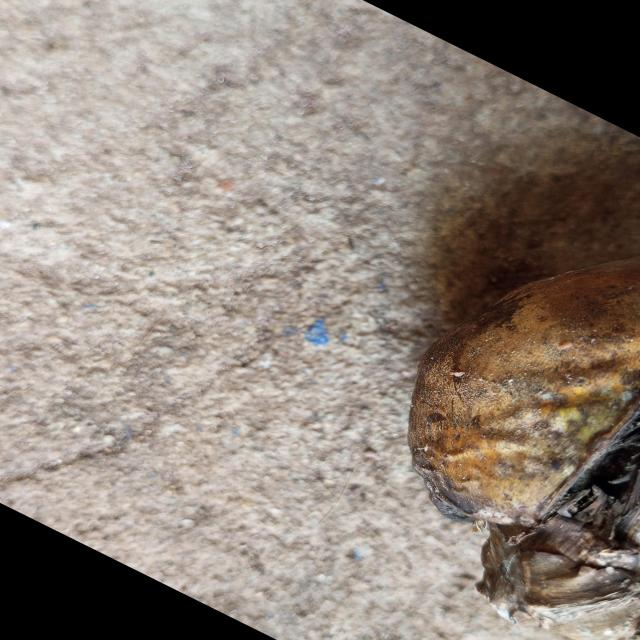damaged: (407, 257, 640, 603)
